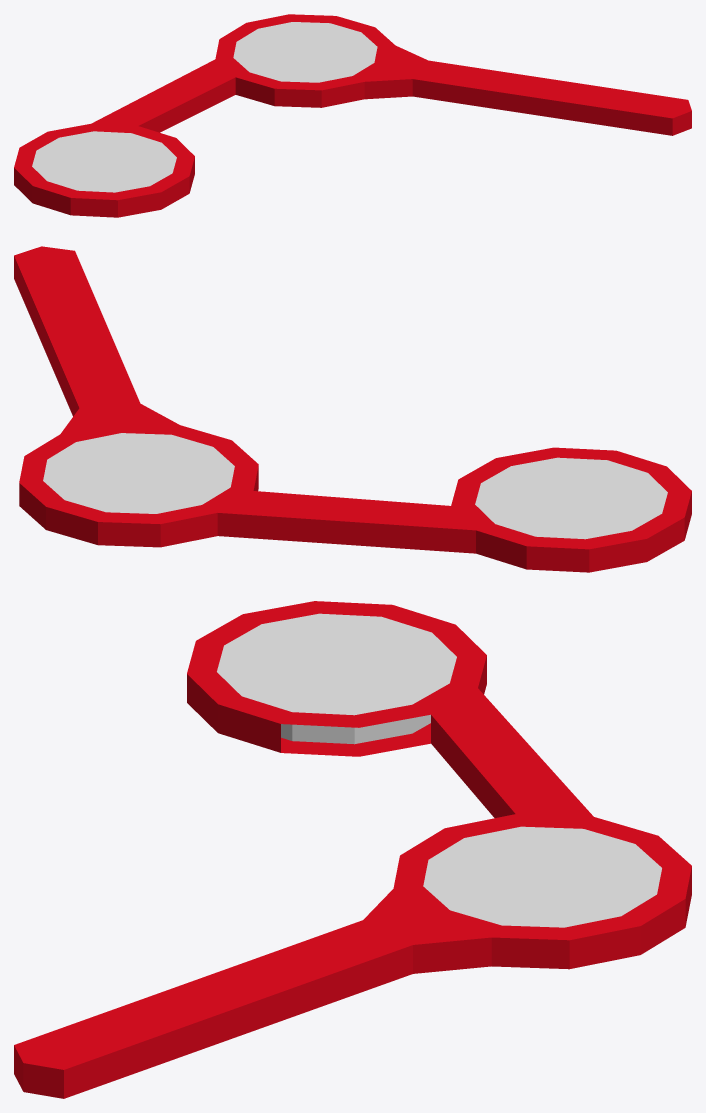
File: Monical.fbx
3 renders of one model, top to bottom at view 1: azimuth 30°, elevation 25°; view 2: azimuth 150°, elevation 25°; view 3: azimuth 270°, elevation 25°, orthographic. The views are drawn at different scales.
Visible parts, largest first — view 1: Cylinder; view 2: Cylinder; view 3: Cylinder.
Part boxes in pixels (x1=…): Cylinder: x1=14, y1=14, x2=691, y2=217; Cylinder: x1=14, y1=246, x2=691, y2=572; Cylinder: x1=14, y1=601, x2=691, y2=1098.
Size of the model in its own units: 868 by 25 by 530.
